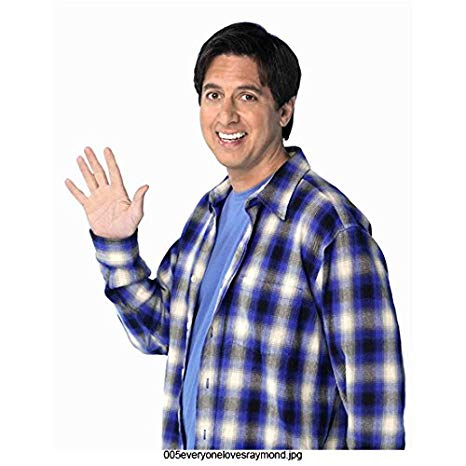open_hand: (49, 136, 157, 244)
